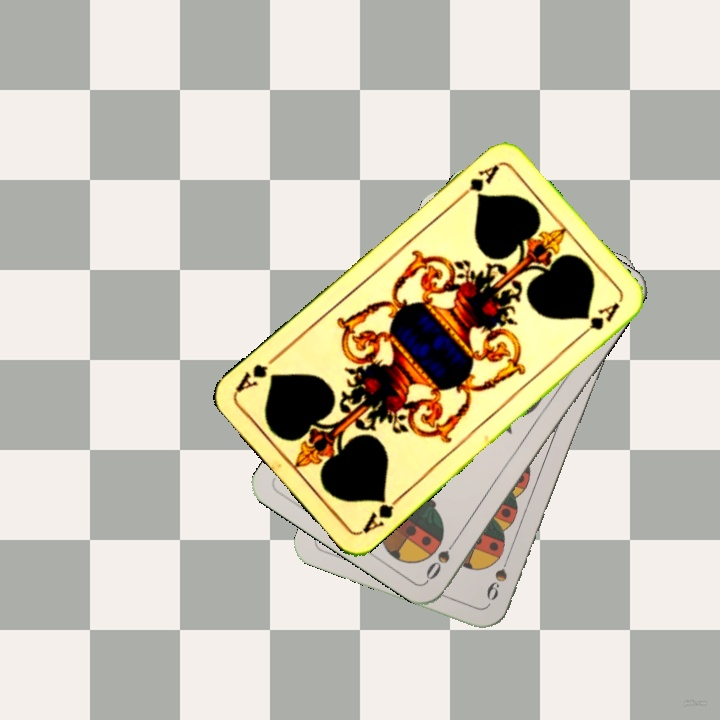GA: (358, 490, 406, 536), (453, 160, 503, 204)
S9: (482, 549, 513, 603)
SO: (421, 531, 463, 583)
